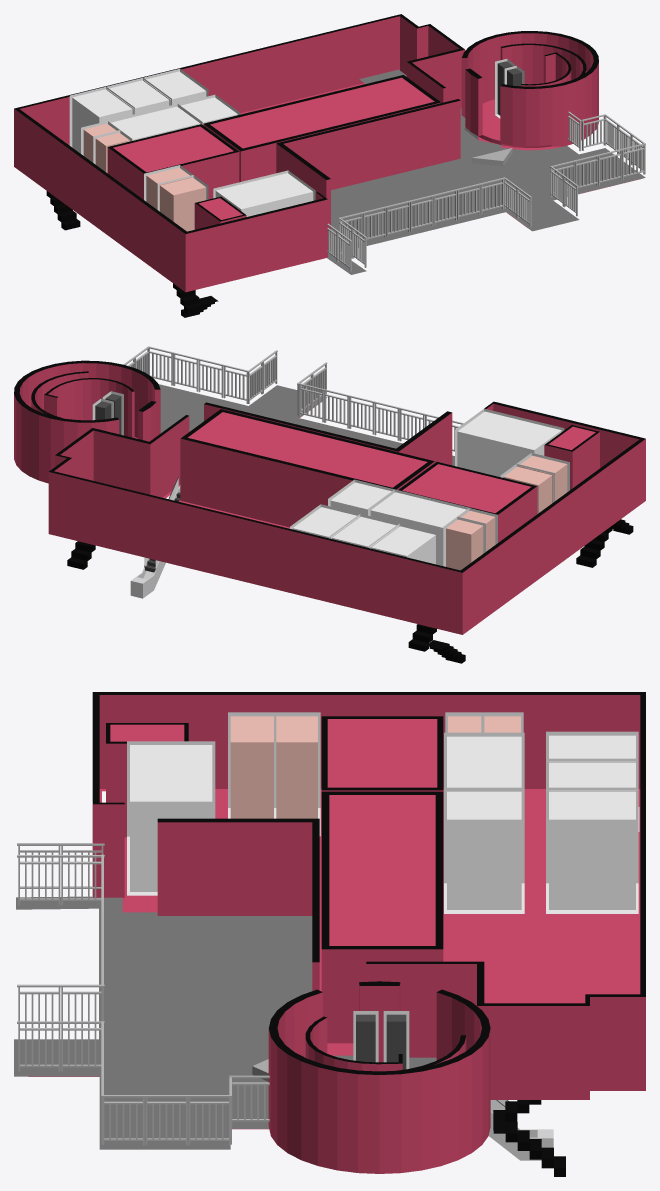
The picture shows the model from 3 angles, top to bottom: view 1: azimuth 30°, elevation 25°; view 2: azimuth 150°, elevation 25°; view 3: azimuth 270°, elevation 25°; orthographic projection. The views are drawn at different scales.
Visible parts, largest first — view 1: object, object_9_8_1, room_9_8_5, room_9_8_1, トイレ_9_8_4, room_9_8_6, room_9_8_2, room_9_8_3, room_9_8_4, トイレ_9_8_2, 階段_9_8_1, トイレ_9_8_3 (+4 smaller); view 2: object, object_9_8_1, room_9_8_5, room_9_8_6, トイレ_9_8_1, room_9_8_1, room_9_8_2, room_9_8_3, room_9_8_4, エスカレーター_9_8_1, 階段_9_8_2, トイレ_9_8_2 (+6 smaller); view 3: object, object_9_8_1, room_9_8_3, room_9_8_4, room_9_8_5, トイレ_9_8_4, トイレ_9_8_2, room_9_8_6, room_9_8_2, room_9_8_1, 階段_9_8_3, エレベーター_9_8_1 (+7 smaller).
Boxes of the visible parts, box(x1,y1,x2,y2) form: object: box(14, 14, 645, 292); object_9_8_1: box(327, 111, 645, 271); room_9_8_5: box(215, 173, 313, 216); room_9_8_1: box(72, 89, 132, 153); トイレ_9_8_4: box(160, 177, 206, 231); room_9_8_6: box(110, 106, 200, 140); room_9_8_2: box(106, 80, 169, 114); room_9_8_3: box(143, 71, 206, 105); room_9_8_4: box(181, 97, 237, 124); トイレ_9_8_2: box(146, 167, 192, 211); 階段_9_8_1: box(173, 283, 218, 317); トイレ_9_8_3: box(95, 132, 129, 172); object: box(14, 360, 645, 634); object_9_8_1: box(123, 346, 463, 451); room_9_8_5: box(457, 411, 561, 477); room_9_8_6: box(370, 492, 466, 565); トイレ_9_8_1: box(446, 519, 483, 570); room_9_8_1: box(371, 526, 435, 564); room_9_8_2: box(332, 516, 399, 548); room_9_8_3: box(292, 507, 359, 538); room_9_8_4: box(330, 482, 391, 515); エスカレーター_9_8_1: box(130, 476, 180, 598); 階段_9_8_2: box(408, 624, 465, 663); トイレ_9_8_2: box(503, 466, 552, 513); object: box(14, 692, 645, 1173); object_9_8_1: box(17, 843, 269, 1145); room_9_8_3: box(549, 791, 635, 909); room_9_8_4: box(447, 791, 521, 909); room_9_8_5: box(130, 745, 212, 891); トイレ_9_8_4: box(230, 716, 273, 818); トイレ_9_8_2: box(276, 716, 317, 818); room_9_8_6: box(447, 736, 521, 787); room_9_8_2: box(549, 762, 635, 791); room_9_8_1: box(549, 735, 635, 762); 階段_9_8_3: box(493, 1100, 565, 1176); エレベーター_9_8_1: box(356, 1014, 406, 1069).
Bounding box in the file's own units: 1.69 × 0.4189 × 1.16.
